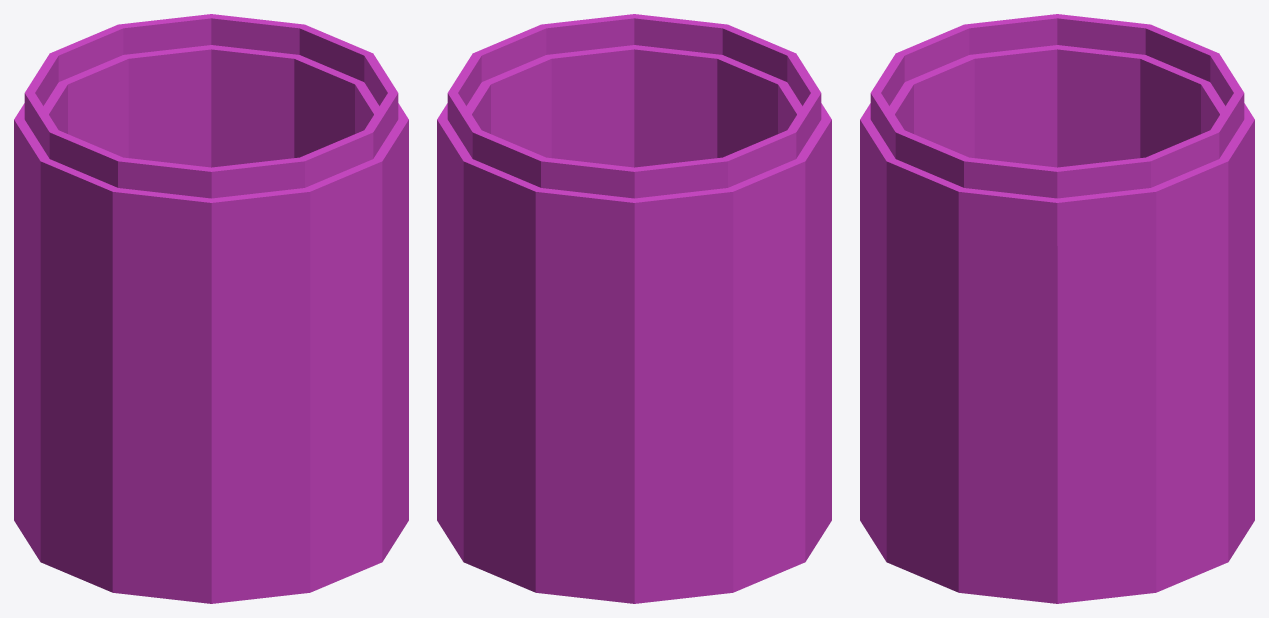
The model's file is TrashCan.fbx.
3 views of the same model, side by side, from view 1: azimuth 30°, elevation 25°; view 2: azimuth 150°, elevation 25°; view 3: azimuth 270°, elevation 25° (orthographic).
Parts seen in each view (by area): view 1: Cylinder; view 2: Cylinder; view 3: Cylinder.
Part boxes in pixels (bbox=[...]): Cylinder: bbox=[14, 14, 408, 603]; Cylinder: bbox=[437, 14, 831, 603]; Cylinder: bbox=[860, 14, 1254, 603].
Size of the model in its own units: 200 by 200 by 239.
